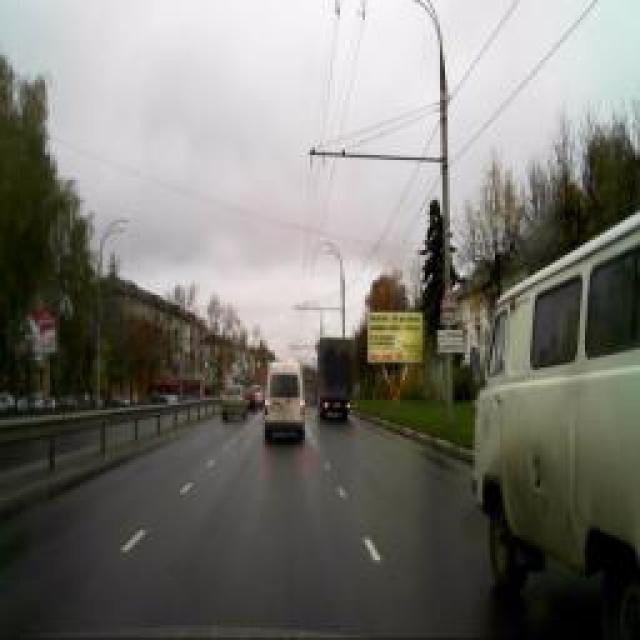sign: (440, 279, 458, 309)
